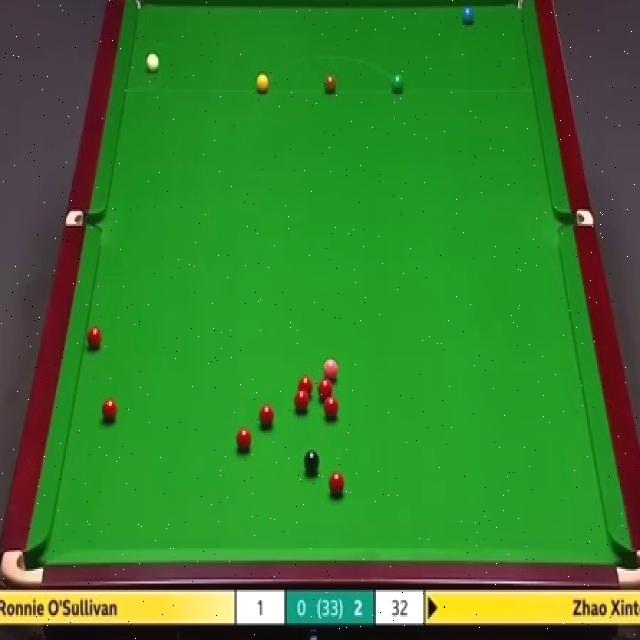black-ball: (304, 448, 322, 478)
blue-ball: (461, 2, 476, 28)
brown-ball: (323, 74, 338, 96)
green-ball: (390, 73, 405, 96)
pink-ball: (320, 356, 339, 382)
red-ball: (101, 396, 119, 426), (329, 472, 347, 498), (85, 325, 102, 351), (293, 390, 310, 414), (259, 403, 274, 430), (236, 427, 252, 452), (296, 375, 314, 397), (324, 395, 339, 419), (317, 379, 334, 399)
white-ball: (144, 50, 161, 75)
yellow-ball: (256, 72, 270, 94)
